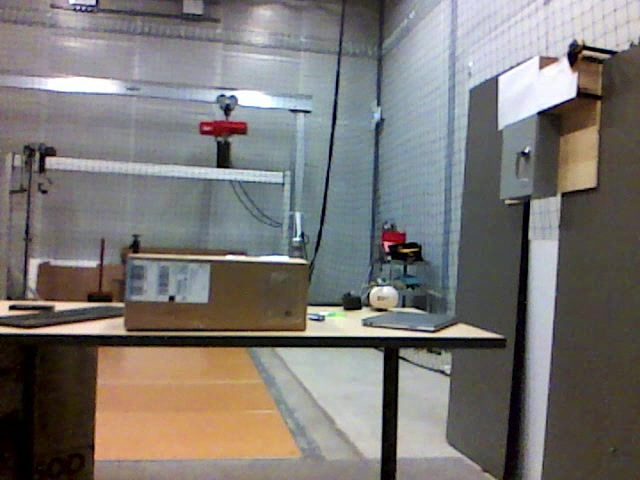box: (127, 255, 310, 332), (1, 342, 97, 478)
